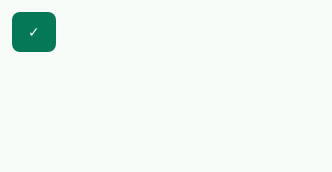
it: Tooltip › shows on keyboard focus
Focus the button named "Verify" at (34, 32), box [12,12,56,52]
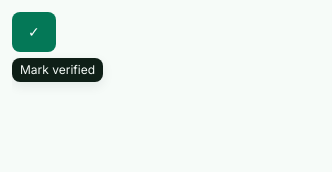
Result: the tooltip reads "Mark verified" at [20,62,95,77]
